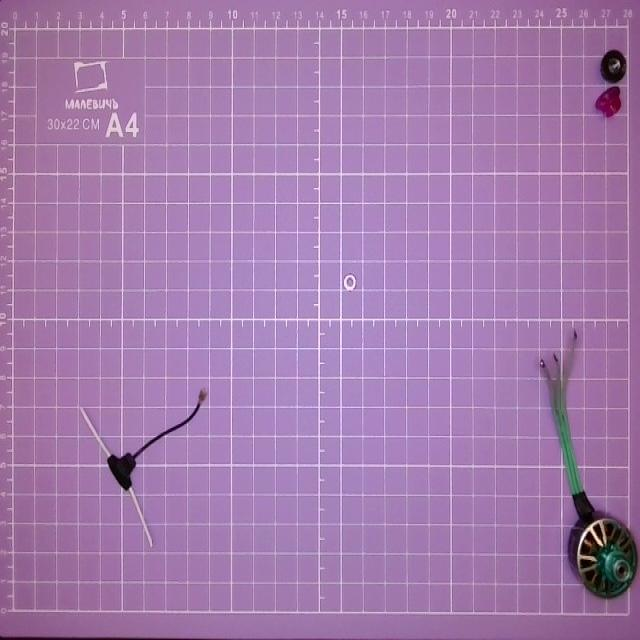antenna: (70, 383, 216, 555)
motor: (532, 330, 640, 598)
screw_M3: (339, 274, 361, 294)
screw_M5: (598, 44, 628, 83), (588, 88, 623, 116)
